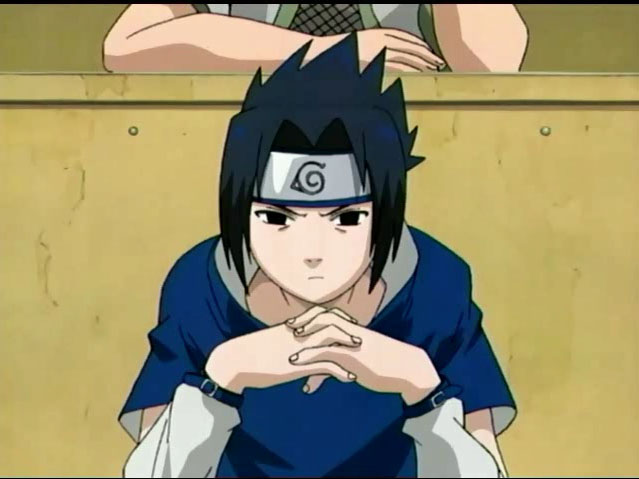sasuke: (240, 146, 377, 305)
